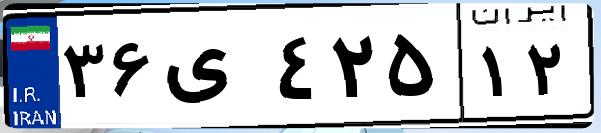1: (475, 38, 525, 113)
2: (330, 28, 385, 110), (525, 38, 570, 115)
3: (57, 26, 110, 100)
4: (270, 28, 330, 110)
5: (385, 28, 445, 110)
6: (110, 28, 158, 98)
ی: (158, 20, 270, 120)
